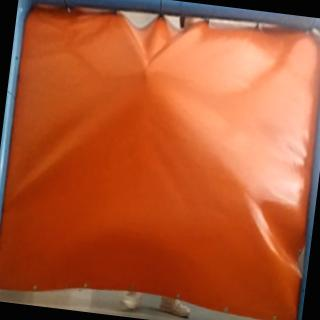Hit-hRxx: (139, 65, 154, 82)
